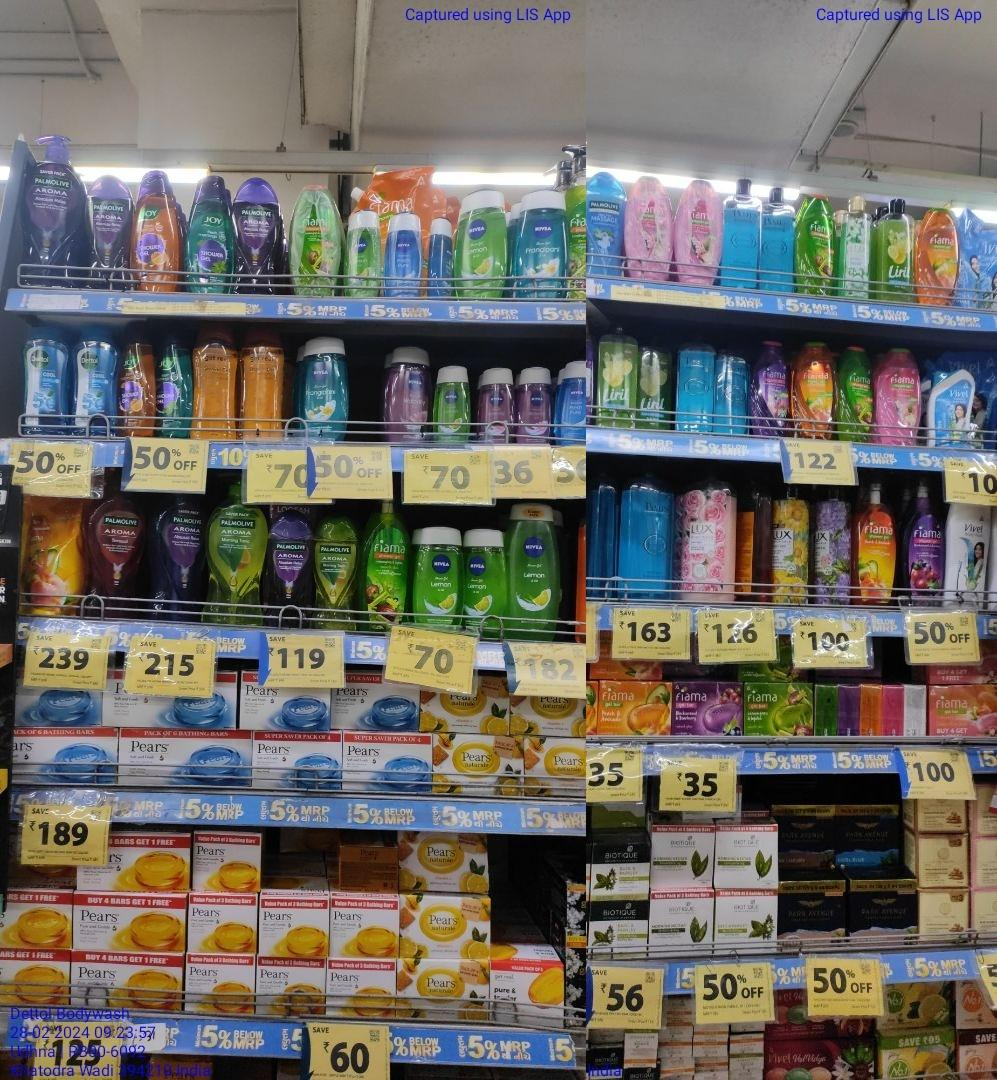Fiama_Shower_Gel_Lemongrass_and_Jojoba_250ML: (290, 181, 341, 297), (799, 190, 836, 296), (839, 344, 873, 442)
Fiama_Shower_Gel_Patchouli_and_Macadamia_250ML: (878, 343, 922, 446)
Fiama_Shower_Gel_Peach_and_Avocado_250ML: (917, 205, 958, 307), (795, 341, 837, 440)
Joy_Shower_Gel_Mandarin_and_Lemongrass_250ML: (133, 169, 181, 292)
Joy_Shower_Gel_Mint_and_Eucalyptus_250ML: (184, 174, 229, 294)
Liril_Lime_and_Tea_Tree_Oil_Body_Wash_250ML: (599, 321, 635, 430), (878, 198, 914, 304), (639, 327, 671, 431)
Lux_Body_Wash_Skin_Detox_Freesia_Scent_and_Alove_Vera_245ML: (837, 195, 872, 301)
Nivea_Shower_Gel_Frangipani_and_Oil_250ML: (515, 190, 566, 302), (300, 335, 348, 441)
Nivea_Shower_Gel_Lemon_and_Oil_250ML: (510, 500, 559, 641), (412, 521, 461, 634), (456, 190, 506, 300), (464, 529, 508, 643), (436, 365, 472, 445)
Nivea_Shower_Gel_Waterlily_and_Oil_250ML: (383, 343, 428, 444), (479, 365, 514, 447), (517, 366, 552, 446)
Palmolive_Aroma_Moments_Feel_The_Massage_Shower_Gel_250ML: (585, 165, 625, 277)
Palmolive_Aroma_Morning_Tonic_Shower_Gel_250ML: (317, 518, 358, 635)
Palmolive_Aroma_Relax_250ML: (266, 510, 314, 630), (81, 174, 130, 290), (233, 181, 280, 294)
Pears_Pure_Glycerin_and_Mint_Extracts_Body_Wash_250ML: (723, 177, 759, 291), (716, 336, 752, 438), (677, 333, 713, 433), (763, 185, 795, 294)
